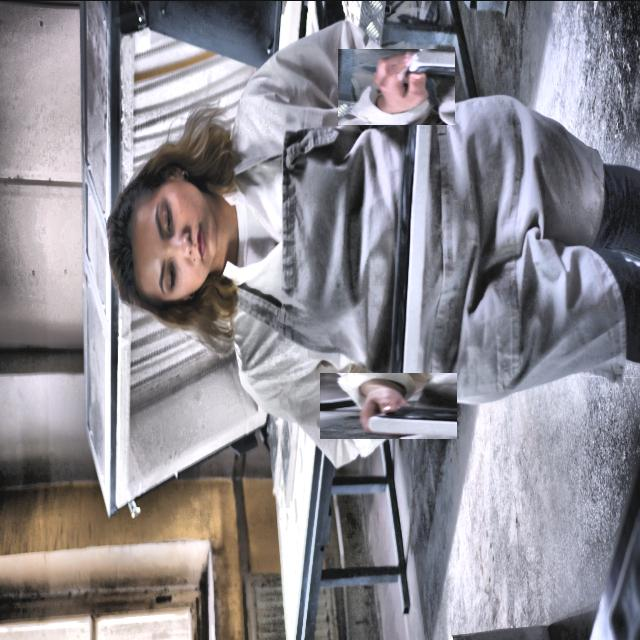not-gloved: (338, 354, 440, 456), (347, 38, 445, 134)
